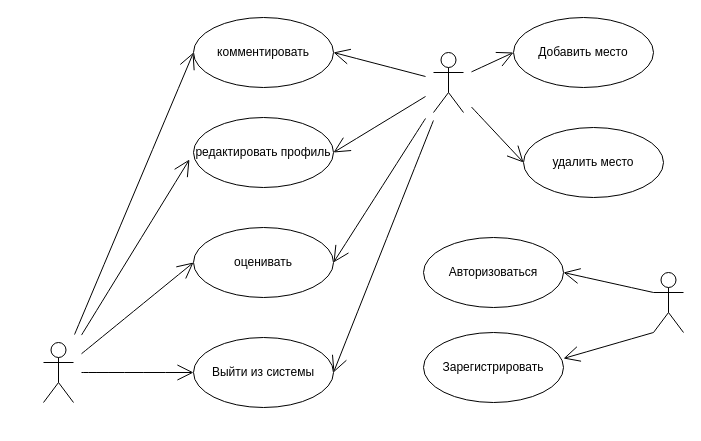
Image size: 701x441. Some labels were removed from this diagram. The shapes that lost their labels are listed below. From the top down, each one's centre as x and y in pixels, then its label:
At point 448,82: "админ".
At point 668,302: "гость".
At point 58,372: "Пользовательr".
